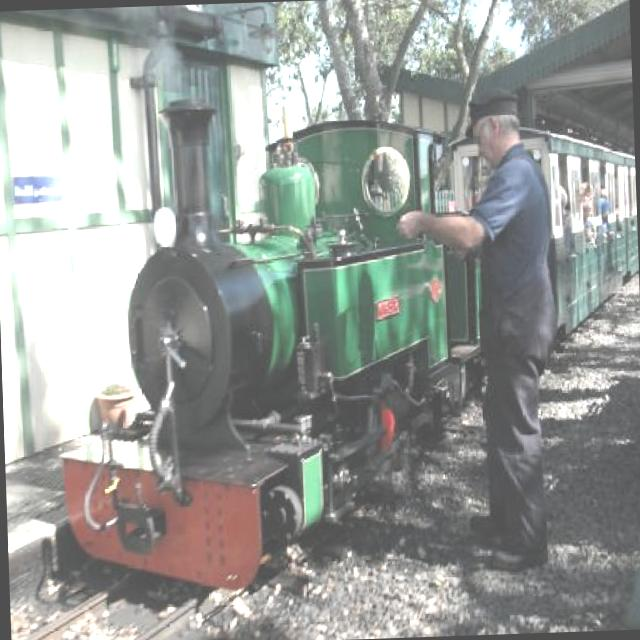Person: (392, 85, 569, 576), (581, 195, 598, 248)
